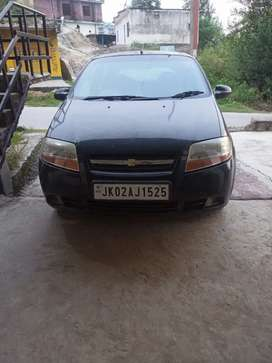JK02AJ1525: (93, 183, 168, 199)
